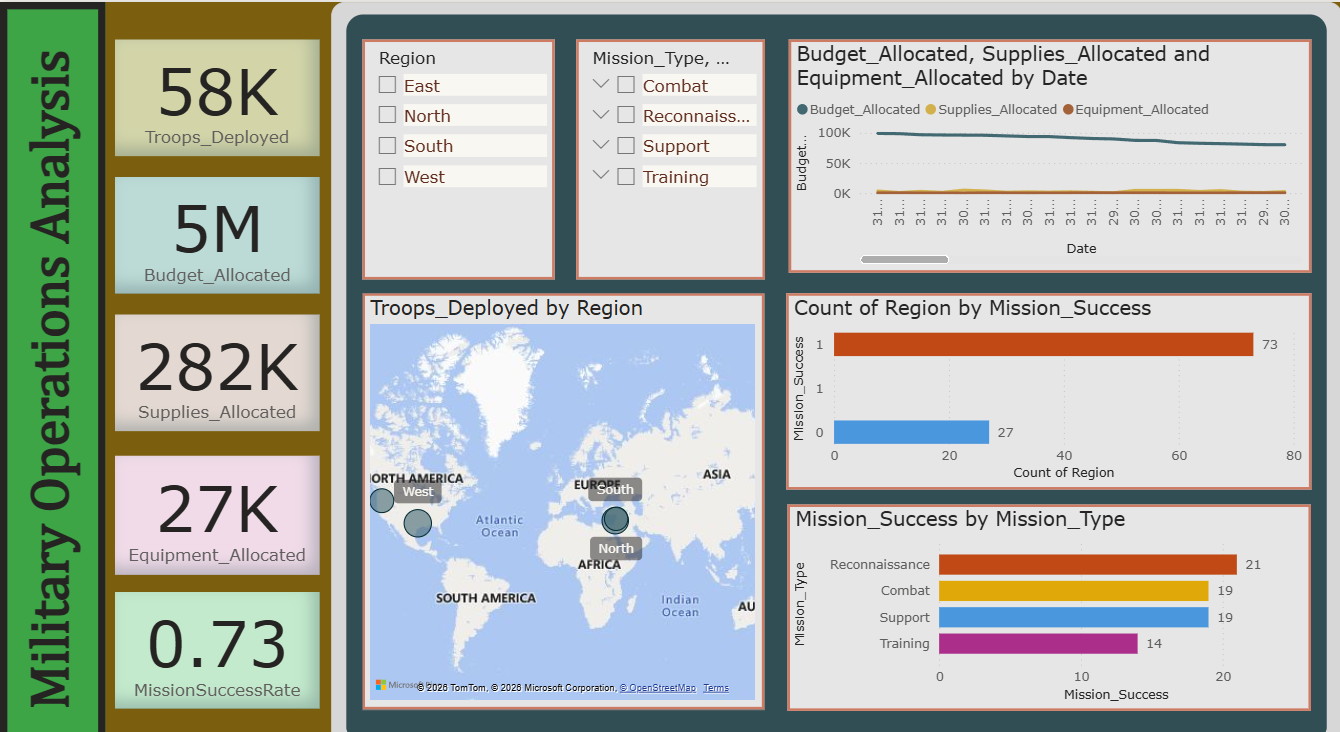

The dashboard page shown, as its layout file describes it:
{"tool":"powerbi","page":{"name":"Power BI Template 1","canvas":[1280,720],"ordinal":0},"visuals":[{"type":"actionButton","box":[418.9,100.1,94.8,49.6],"z":0},{"type":"basicShape","box":[316.2,0,964.1,719.8],"z":1000},{"type":"basicShape","box":[0,0,83.2,720],"z":2000},{"type":"clusteredBarChart","fields":{"Y":["CountNonNull(military_data.Region)"],"Category":["military_data.Mission_Success"]},"box":[749.7,277.8,500.6,186.8],"z":3000},{"type":"clusteredBarChart","fields":{"Category":["military_data.Mission_Type"],"Y":["Sum(military_data.Mission_Success)"]},"box":[750.9,479,499.4,196.4],"z":4000},{"type":"map","fields":{"Category":["military_data.Region"],"Size":["Sum(military_data.Troops_Deployed)"]},"box":[346.1,277.8,383.2,396.4],"z":5000},{"type":"slicer","fields":{"Values":["military_data.Region"]},"box":[346.1,35.9,183.2,228.7],"z":6000},{"type":"slicer","fields":{"Values":["military_data.Mission_Type","military_data.Date"]},"box":[549.7,35.9,179.6,228.7],"z":7000},{"type":"lineChart","fields":{"Category":["military_data.Date"],"Y":["Sum(military_data.Budget_Allocated)","Sum(military_data.Supplies_Allocated)","Sum(military_data.Equipment_Allocated)"]},"box":[752.1,35.9,498.2,222.8],"z":8000},{"type":"shape","box":[0,0,100.6,719.8],"z":9000},{"type":"card","fields":{"Values":["Sum(military_data.Budget_Allocated)"]},"box":[110.2,166.5,195.2,111.4],"z":10000},{"type":"card","fields":{"Values":["Sum(military_data.Equipment_Allocated)"]},"box":[110.2,432.3,195.2,113.8],"z":11000},{"type":"card","fields":{"Values":["Sum(military_data.Supplies_Allocated)"]},"box":[110.2,298.2,195.2,111.4],"z":12000},{"type":"card","fields":{"Values":["military_data.MissionSuccessRate"]},"box":[110.2,562.9,195.2,111.4],"z":13000},{"type":"card","fields":{"Values":["Sum(military_data.Troops_Deployed)"]},"box":[110.2,35.9,195.2,111.4],"z":14000}]}

Visuals, with their boxes in screenshot pixels (x1, y1, x2, y2), scaled from the page's 1280x720 canvas onto the 1340x732 screenshot:
actionButton: detection(439, 102, 538, 152)
basicShape: detection(331, 0, 1339, 731)
basicShape: detection(0, 0, 87, 731)
clusteredBarChart - CountNonNull(military_data.Region) x military_data.Mission_Success: detection(785, 282, 1309, 472)
clusteredBarChart - military_data.Mission_Type x Sum(military_data.Mission_Success): detection(786, 487, 1309, 687)
map - military_data.Region x Sum(military_data.Troops_Deployed): detection(362, 282, 763, 685)
slicer - military_data.Region: detection(362, 36, 554, 269)
slicer - military_data.Mission_Type x military_data.Date: detection(575, 36, 763, 269)
lineChart - military_data.Date x Sum(military_data.Budget_Allocated): detection(787, 36, 1309, 263)
shape: detection(0, 0, 105, 731)
card - Sum(military_data.Budget_Allocated): detection(115, 169, 320, 283)
card - Sum(military_data.Equipment_Allocated): detection(115, 440, 320, 555)
card - Sum(military_data.Supplies_Allocated): detection(115, 303, 320, 416)
card - military_data.MissionSuccessRate: detection(115, 572, 320, 686)
card - Sum(military_data.Troops_Deployed): detection(115, 36, 320, 150)
